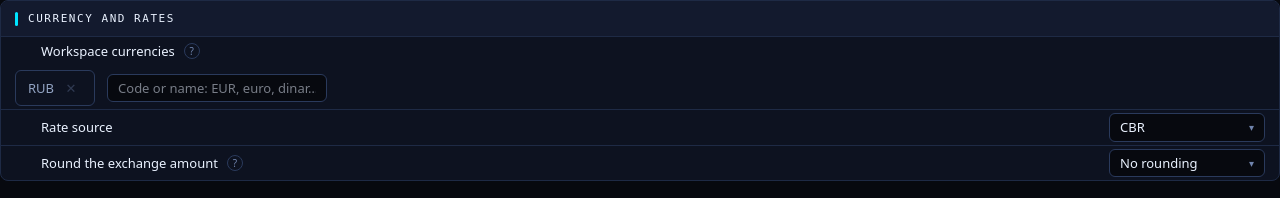
Test: CurrencySettings › валюта находится по названию, а не только по коду
The image size is (1280, 198).
Type "динар" into the dropdown labelled "Code or name: EUR, euro, dinar…".
click(217, 88); type("динар")  # box top-left (107, 74), bottom-right (327, 102)
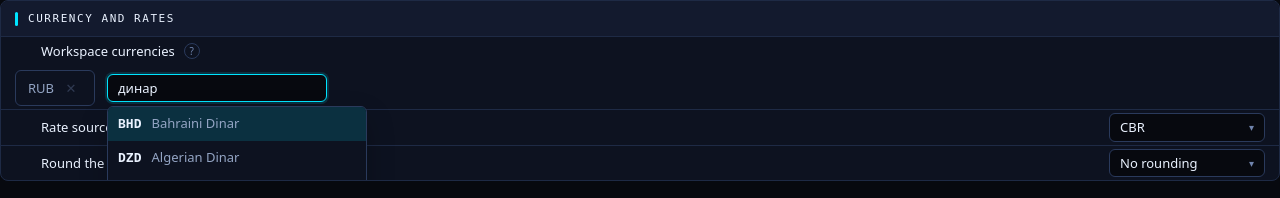
Check: the 1st option is shown, box top-left (108, 108), bottom-right (366, 141)
